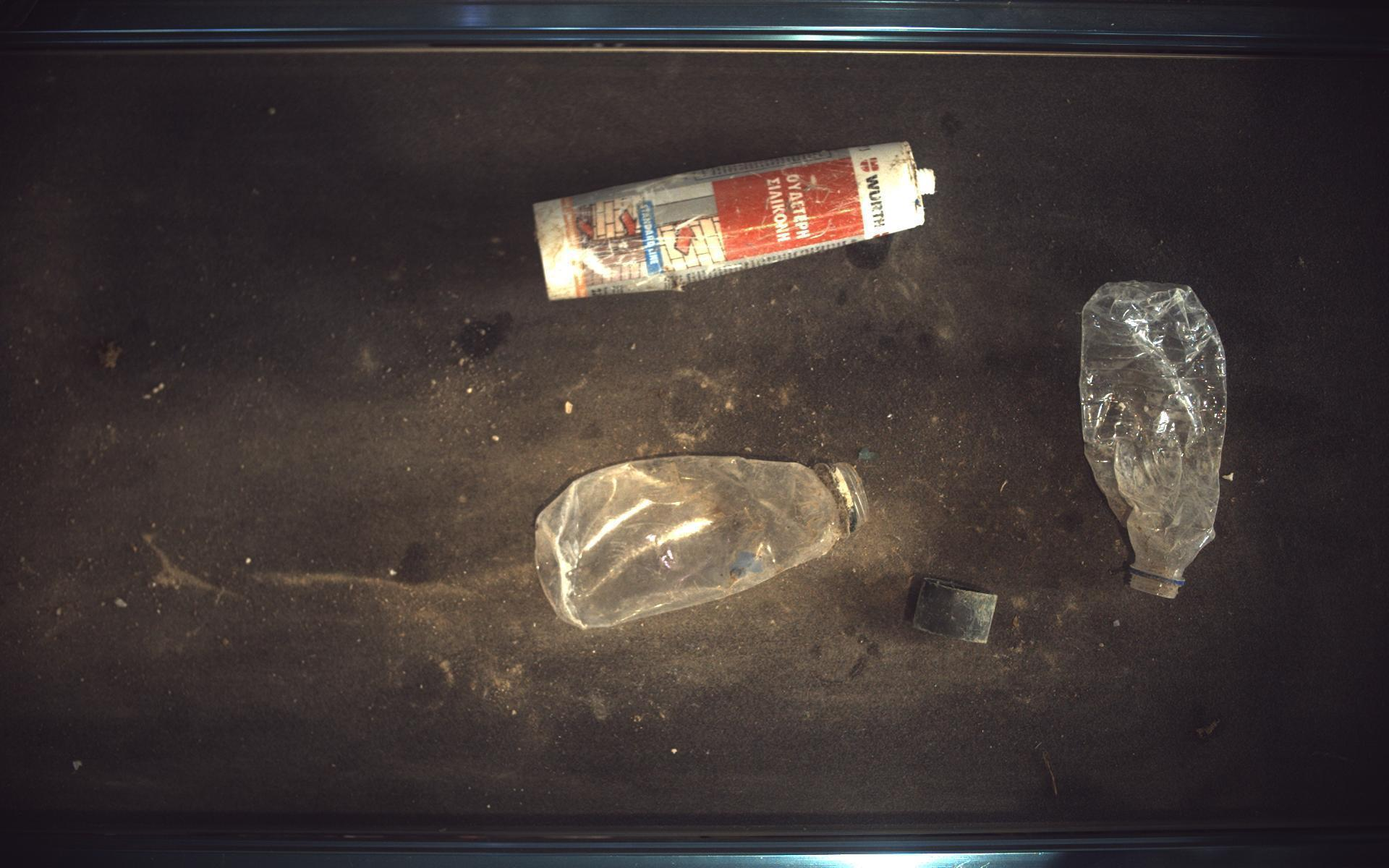general_w: (915, 579, 999, 644)
plastic: (534, 141, 936, 299)
